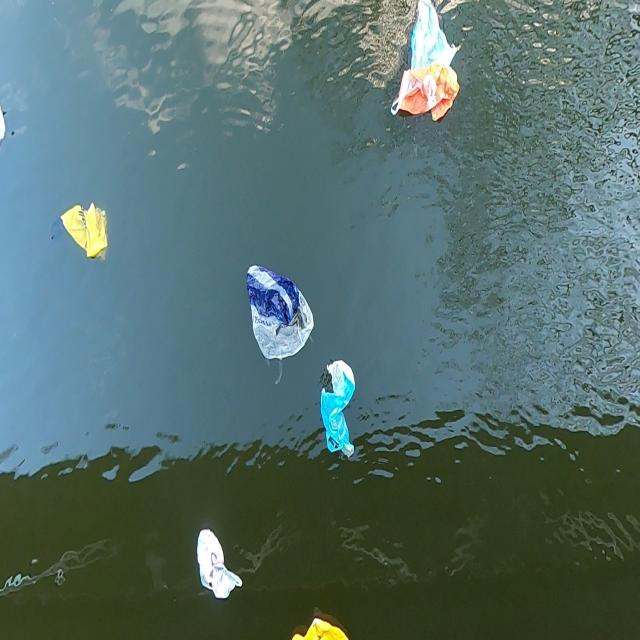Sac plastique: (240, 256, 319, 375), (316, 357, 362, 469), (383, 68, 464, 130), (395, 0, 468, 66), (189, 526, 244, 610), (48, 203, 115, 270)
